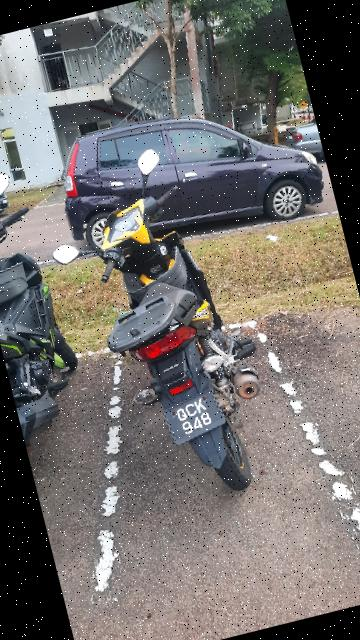License_Plate: (152, 382, 228, 450)
car: (49, 82, 332, 272)
motorcycle: (33, 135, 295, 528), (1, 143, 114, 465)
